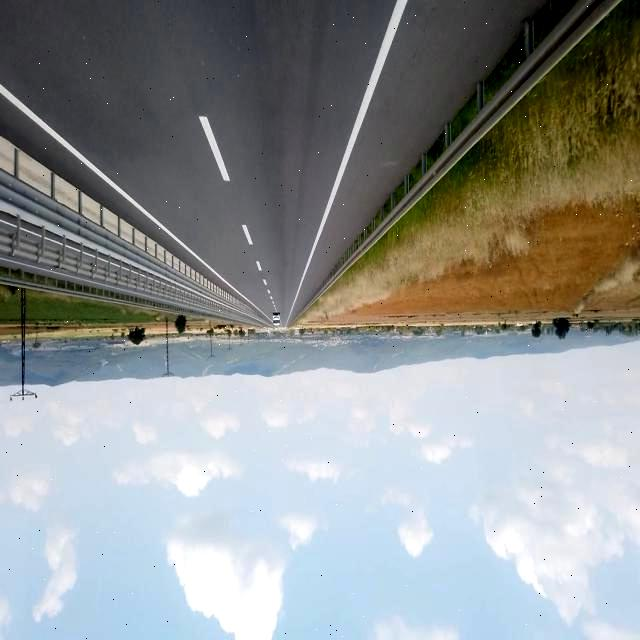lane: (0, 83, 260, 309), (289, 0, 408, 316), (199, 116, 229, 181)
road: (1, 1, 546, 325)
